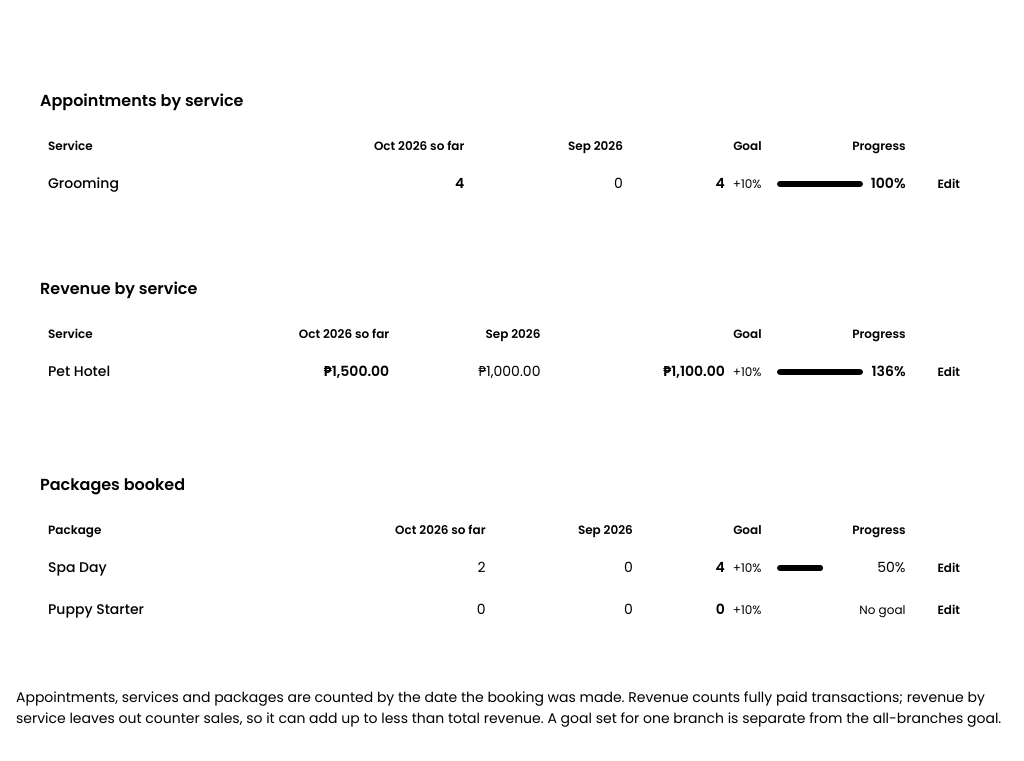
GoalsPage › rejects a part-number target for a count
(page scrolled)
expect the row "Spa Day 2 0 4+10% 50% Edit" is shown: met, box [40, 546, 984, 588]
Click the button with aria-label "Edit goal for Spa Day" at x=949, y=568, box [922, 554, 976, 580]
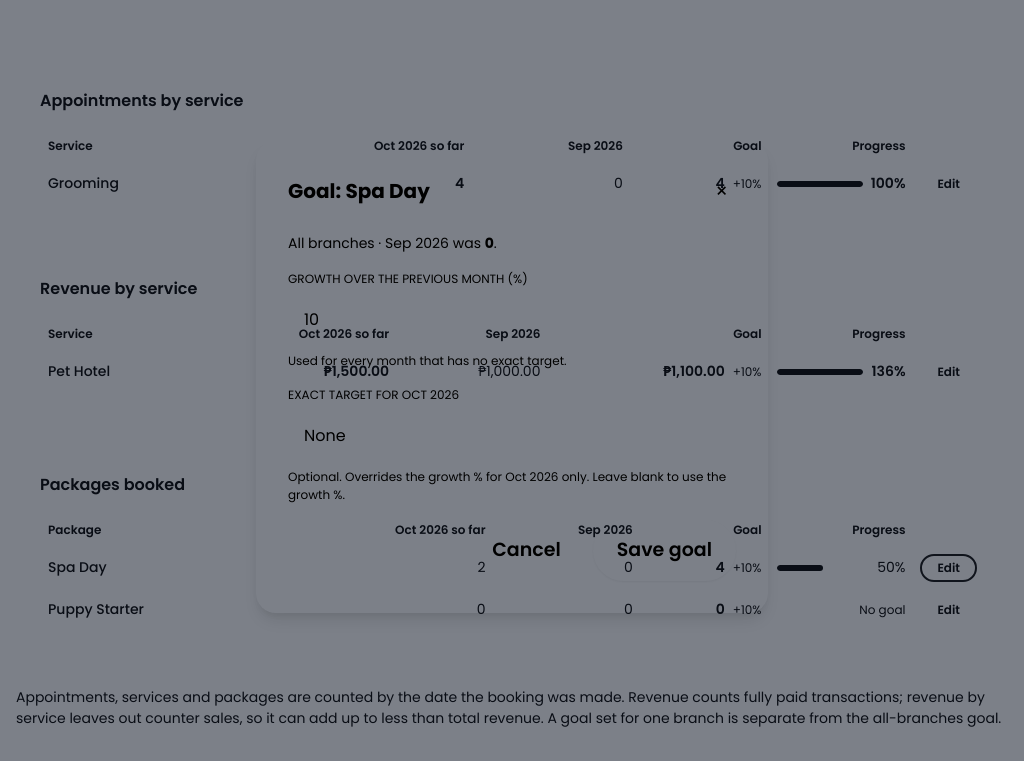
Type "2.5" into the number field labelled "Exact target" at x=512, y=436, box [288, 408, 736, 464]
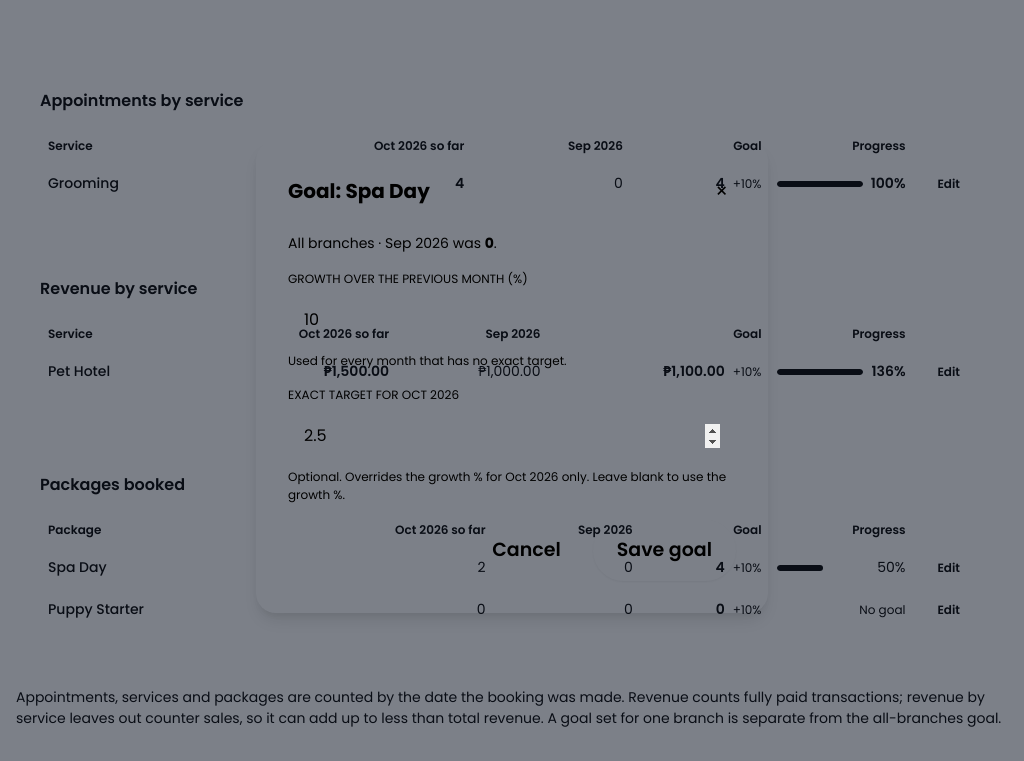
Click the button "Save goal" at x=664, y=551, box [593, 520, 736, 581]
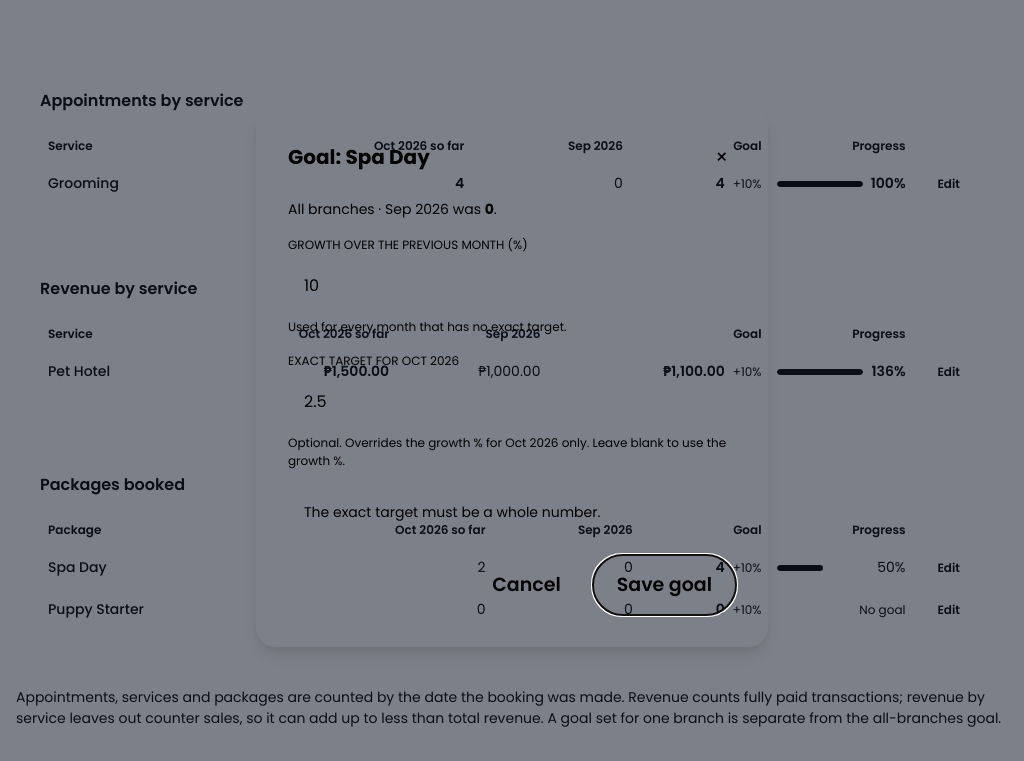
expect the message shows "whole number": met, box [304, 502, 600, 522]
